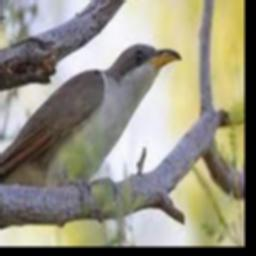Cuckoo: (0, 42, 180, 188)
